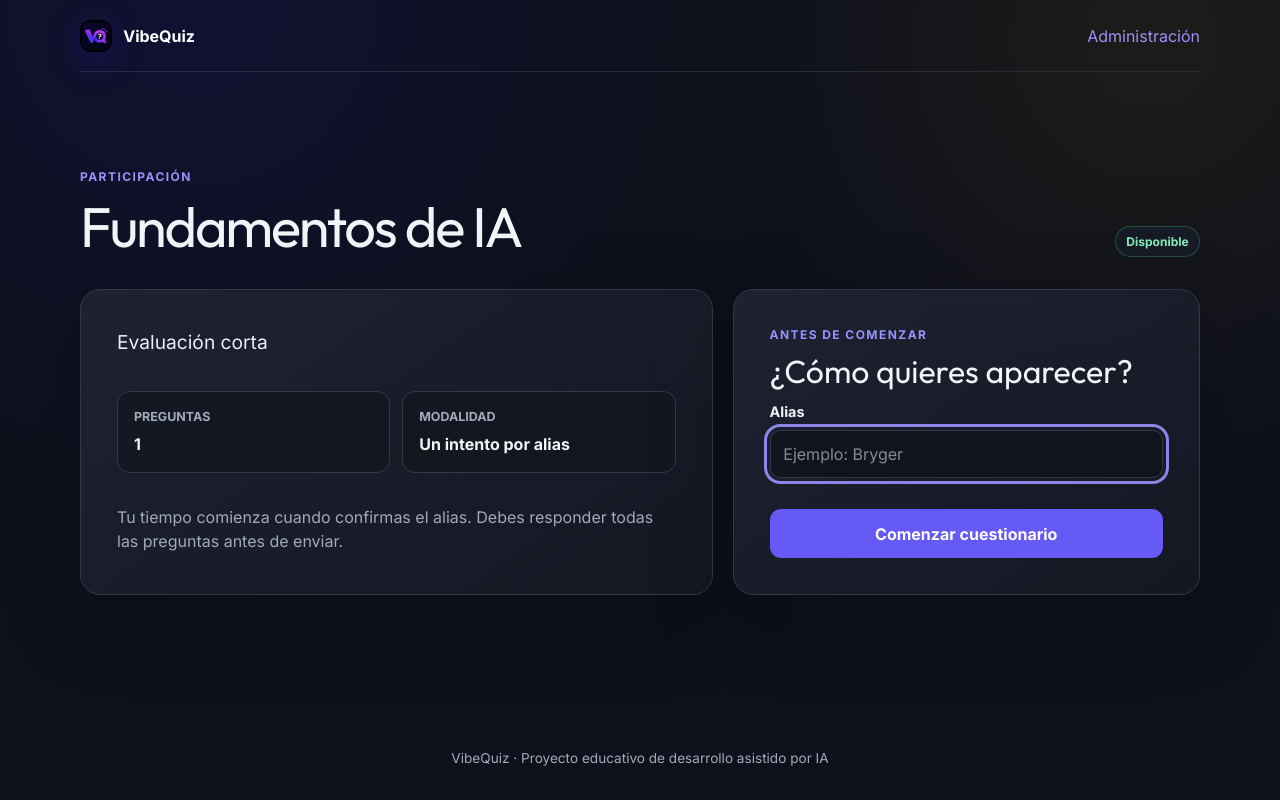
Test: public quiz entry › presents an alias conflict as a recoverable error
The width and height of the screenshot is (1280, 800).
Expected: the heading "Fundamentos de IA" is shown, [80,196,521,257]
Type "Bryger" into the field labelled "Alias". click: (966, 454)
box: [770,430,1163,478]
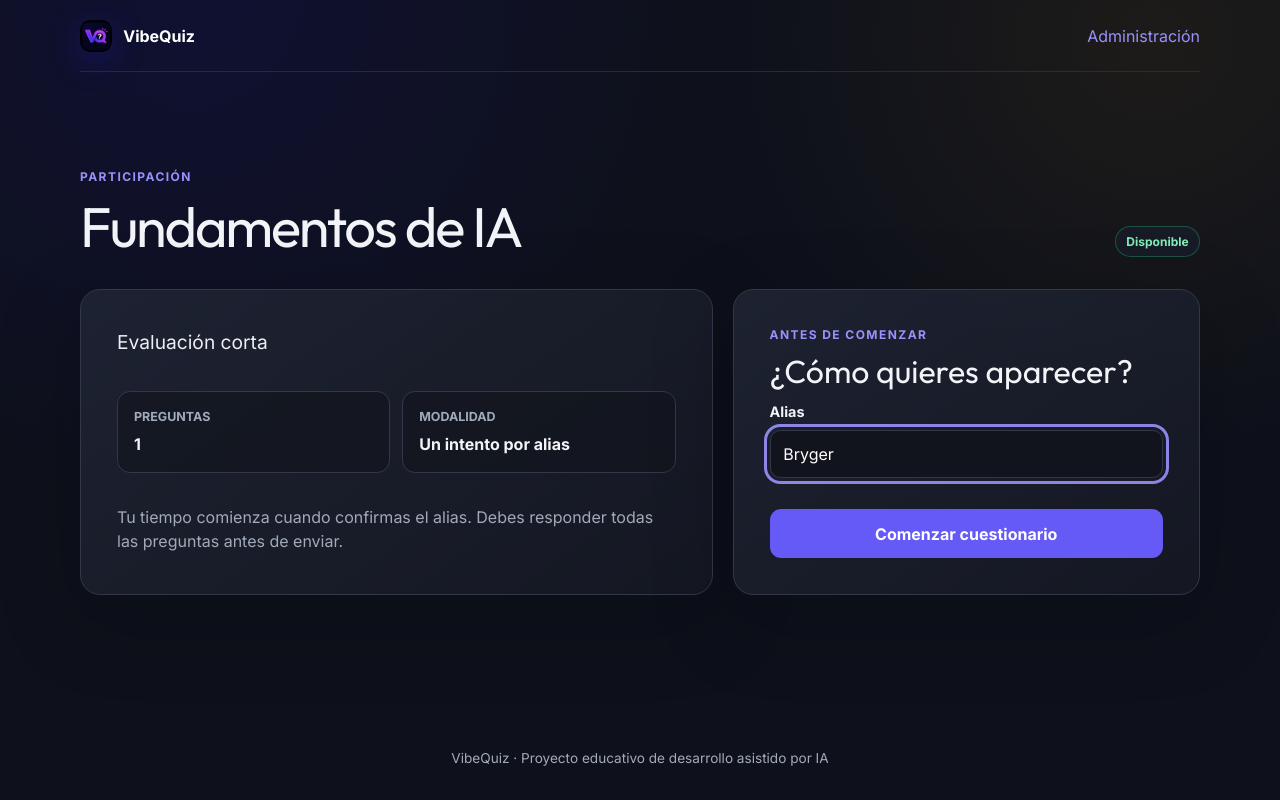
Click the button "Comenzar cuestionario". click: (966, 534)
box: [770,509,1163,558]
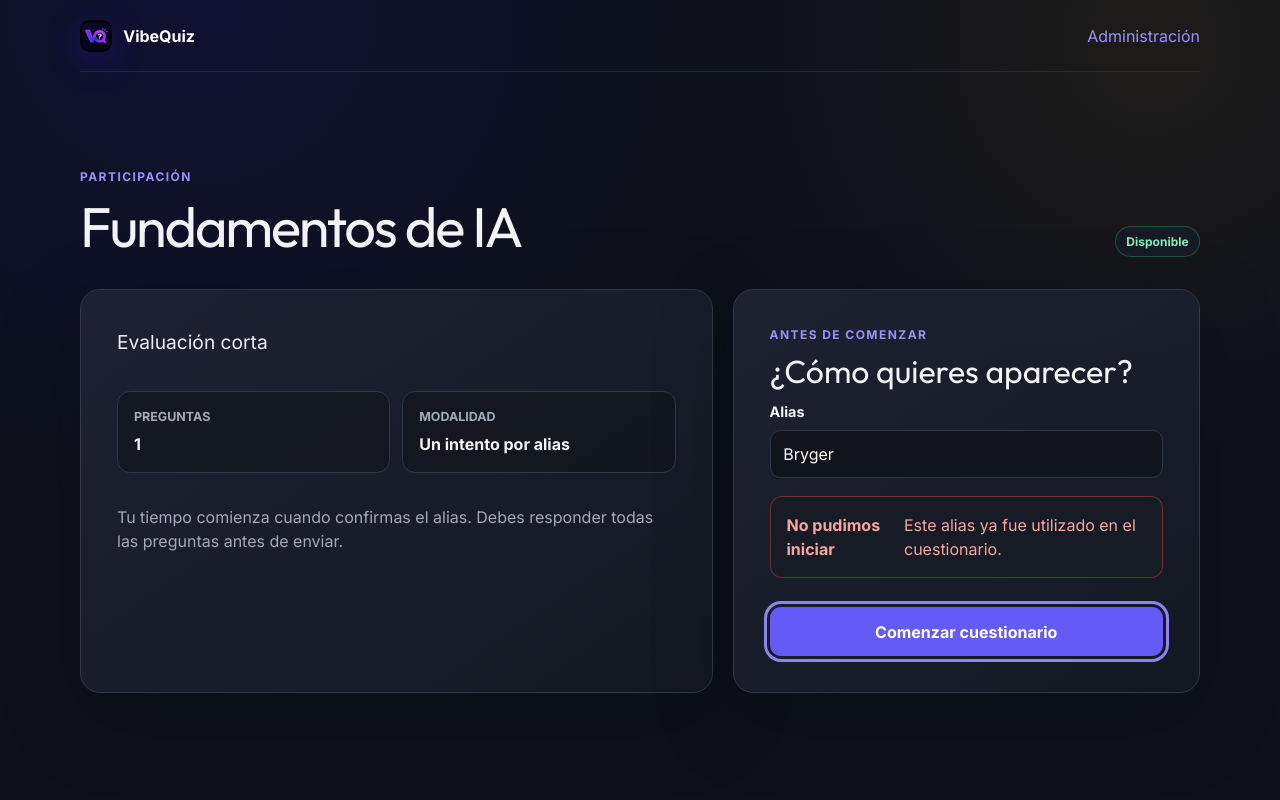
Now the text "Este alias ya fue utilizado en el cuestionario." is shown, box [904,513,1146,561]
